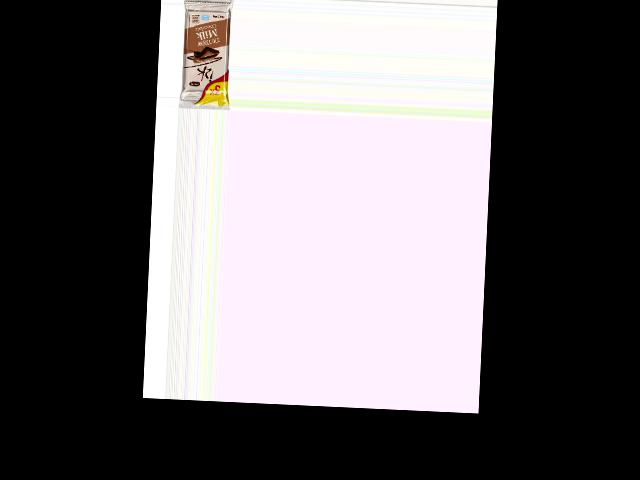chocolate: (177, 3, 233, 110)
